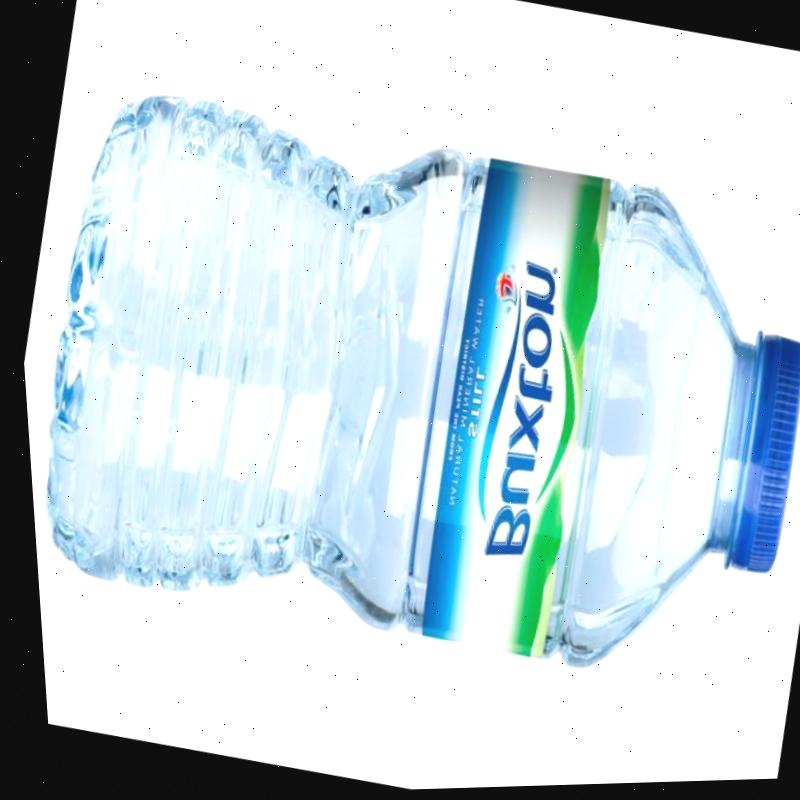botella: (4, 64, 800, 738)
